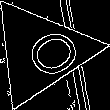O_SW: (5, 19, 77, 84)
